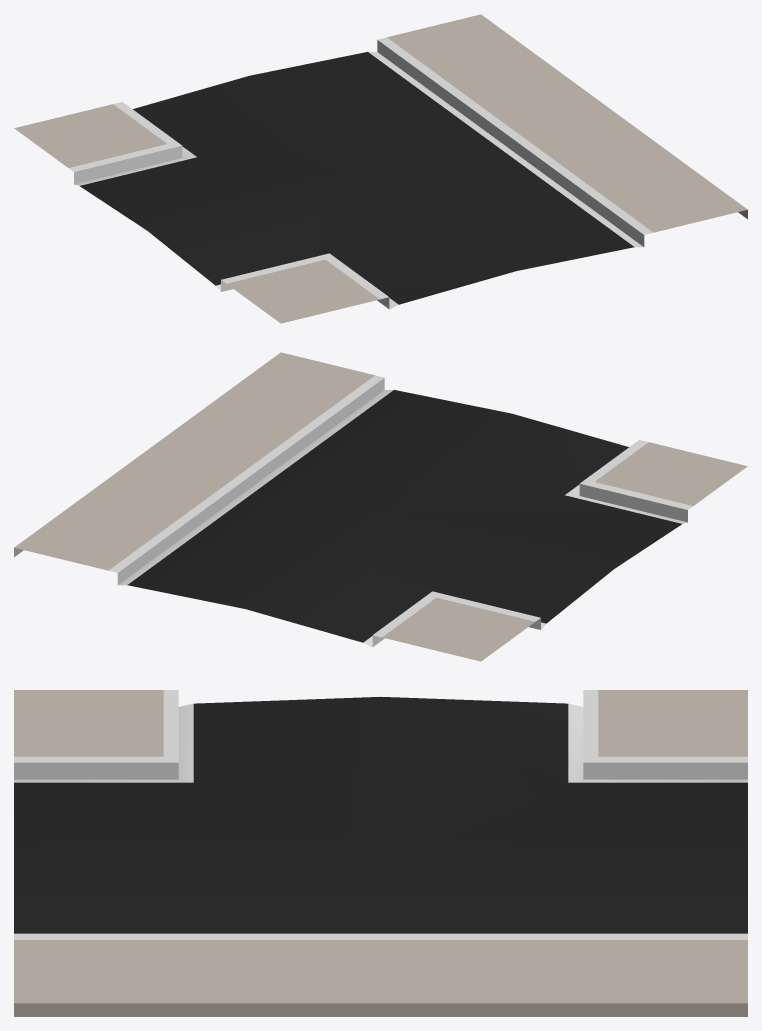
The model's file is Cruzamento_T_2x2_Faixas.fbx.
The picture shows the model from 3 angles, top to bottom: view 1: azimuth 30°, elevation 25°; view 2: azimuth 150°, elevation 25°; view 3: azimuth 270°, elevation 25°; orthographic projection. The views are drawn at different scales.
Visible parts, largest first — view 1: Cruzamento_T_2x2_Faixas; view 2: Cruzamento_T_2x2_Faixas; view 3: Cruzamento_T_2x2_Faixas.
Part boxes in pixels (box(x1,y1,x2,y2)): Cruzamento_T_2x2_Faixas: box(14, 14, 747, 323); Cruzamento_T_2x2_Faixas: box(14, 352, 747, 661); Cruzamento_T_2x2_Faixas: box(14, 690, 747, 1016).
Bounding box in the file's own units: 990 × 25 × 980.
